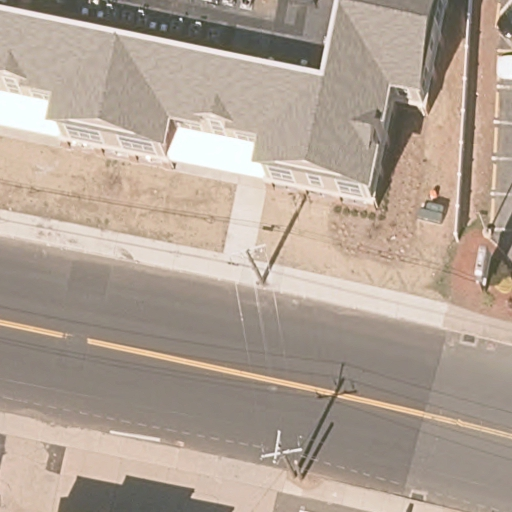DT: (260, 430, 303, 480), (231, 243, 267, 284)
